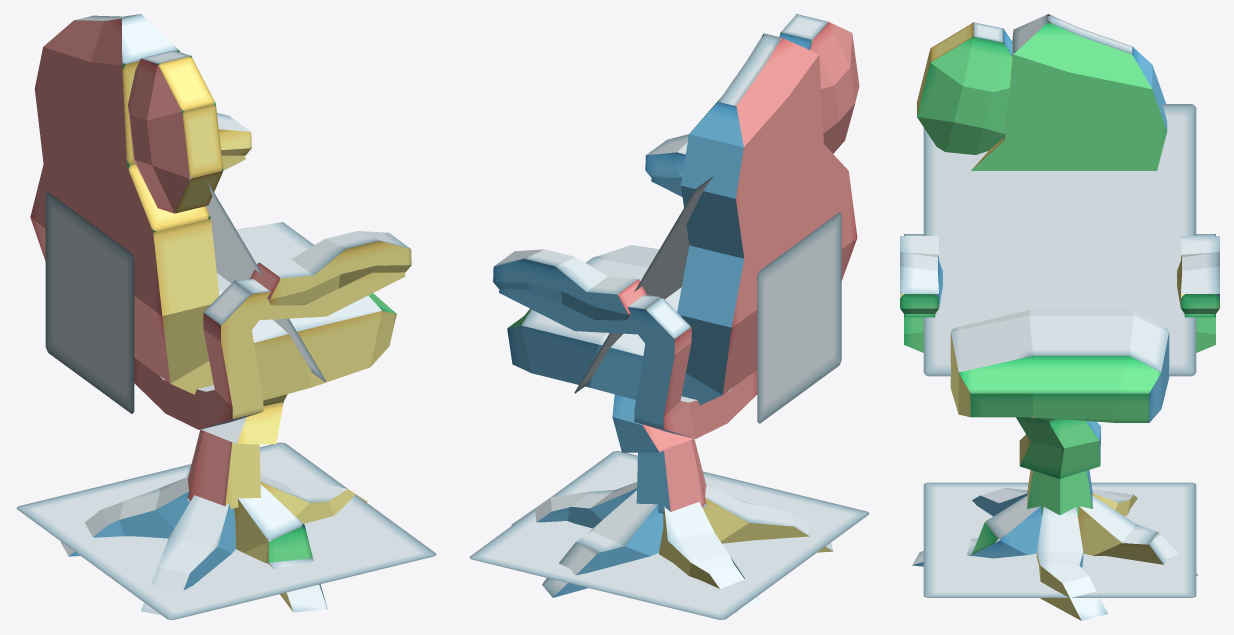
File: flesh-chair.fbx
3 renders of one model, left to right at view 1: azimuth 30°, elevation 25°; view 2: azimuth 150°, elevation 25°; view 3: azimuth 270°, elevation 25°, orthographic. The views are drawn at different scales.
Parts seen in each view (by area): view 1: Flesh, plane, arm_L4, mouth, beveled_cuboid, leg20, leg19, cylinder, leg18, plane_1, leg16, cylinder_1 (+1 smaller); view 2: Flesh, plane, arm_R4, mouth, leg17, beveled_cuboid, leg18, cylinder, leg19, plane_1, leg16, cylinder_1 (+1 smaller); view 3: Flesh, plane_1, plane, beveled_cuboid, leg16, cylinder_1, arm_R4, arm_L4, leg17, leg20, cylinder, leg19 (+1 smaller).
Boxes of the visible parts, bbox=[...] form: Flesh: bbox=[30, 14, 396, 400]; plane: bbox=[16, 442, 436, 619]; arm_L4: bbox=[134, 231, 411, 429]; mouth: bbox=[45, 192, 134, 413]; beveled_cuboid: bbox=[128, 50, 223, 213]; leg20: bbox=[234, 484, 327, 612]; leg19: bbox=[141, 495, 235, 614]; cylinder: bbox=[187, 429, 260, 508]; leg18: bbox=[60, 477, 189, 556]; plane_1: bbox=[189, 176, 326, 382]; leg16: bbox=[260, 475, 367, 523]; cylinder_1: bbox=[201, 394, 287, 444]; Flesh: bbox=[507, 33, 857, 405]; plane: bbox=[469, 451, 869, 619]; arm_R4: bbox=[493, 249, 757, 438]; mouth: bbox=[757, 212, 841, 423]; leg17: bbox=[542, 490, 663, 597]; beveled_cuboid: bbox=[779, 14, 859, 153]; leg18: bbox=[659, 502, 760, 612]; cylinder: bbox=[636, 438, 706, 513]; leg19: bbox=[702, 484, 833, 552]; plane_1: bbox=[574, 176, 712, 393]; leg16: bbox=[511, 482, 637, 528]; cylinder_1: bbox=[612, 394, 693, 452]; Flesh: bbox=[950, 14, 1169, 422]; plane_1: bbox=[923, 104, 1196, 376]; plane: bbox=[923, 482, 1196, 597]; beveled_cuboid: bbox=[917, 22, 1014, 154]; leg16: bbox=[1036, 507, 1107, 620]; cylinder_1: bbox=[1016, 417, 1100, 478]; arm_R4: bbox=[1177, 234, 1219, 352]; arm_L4: bbox=[900, 234, 942, 352]; leg17: bbox=[1077, 495, 1198, 575]; leg20: bbox=[912, 495, 1042, 566]; cylinder: bbox=[1027, 417, 1092, 515]; leg19: bbox=[972, 487, 1027, 516].
Size of the model in its own units: 23.58 by 43.89 by 25.63.
Materials: 1 (1 with a texture image).
